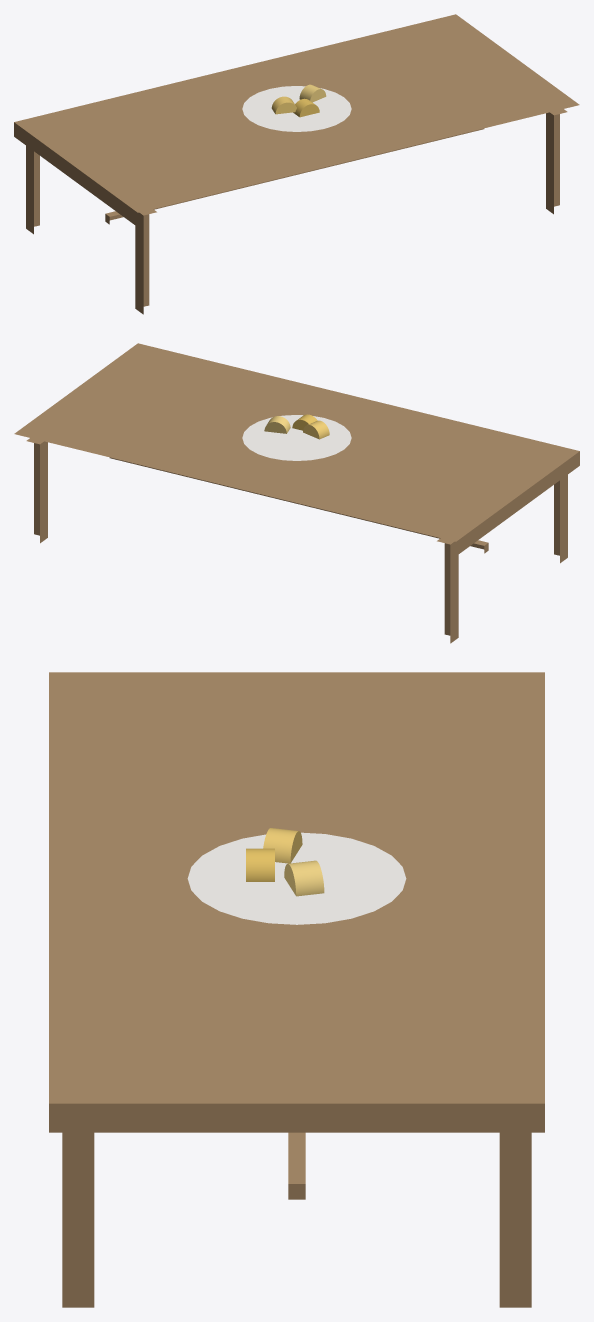
Rendered from empanadas_mesa.glb.
3 renders of one model, top to bottom at view 1: azimuth 30°, elevation 25°; view 2: azimuth 150°, elevation 25°; view 3: azimuth 270°, elevation 25°, orthographic. The views are drawn at different scales.
Parts seen in each view (by area): view 1: tablero, pata (×3), plato, refuerzo; view 2: tablero, pata (×3), plato, refuerzo; view 3: tablero, plato, pata (×2), refuerzo, empanada3, empanada1, empanada2.
Part boxes in pixels (box(x1,y1,x2,y2)): tablero: box(14, 14, 579, 226); pata (×3): box(26, 109, 567, 314); plato: box(242, 86, 351, 131); refuerzo: box(105, 128, 484, 224); tablero: box(14, 343, 579, 555); pata (×3): box(26, 438, 567, 643); plato: box(242, 415, 351, 460); refuerzo: box(109, 457, 488, 553); tablero: box(49, 672, 544, 1132); plato: box(187, 832, 406, 924); pata (×2): box(62, 1132, 531, 1307); refuerzo: box(288, 1132, 305, 1199); empanada3: box(284, 860, 324, 896); empanada1: box(263, 828, 302, 863); empanada2: box(246, 848, 274, 881).
Size of the model in its own units: 7 by 1.92 by 3.4.
